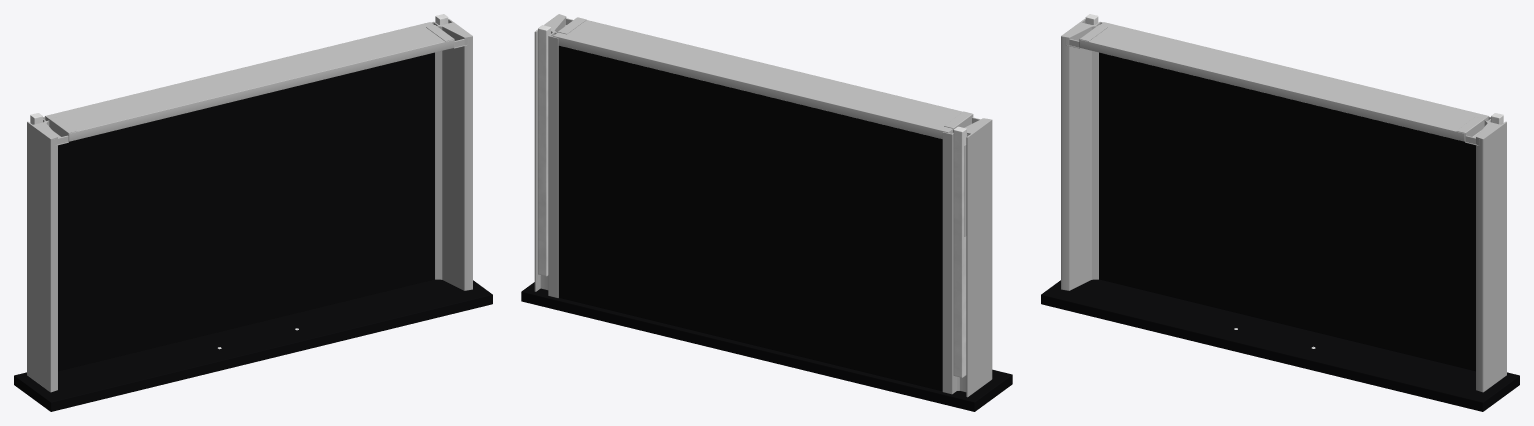
The model's file is SM_Kitchen_11_Base_Drawer_01.obj.
The picture shows the model from 3 angles, left to right: view 1: azimuth 30°, elevation 25°; view 2: azimuth 150°, elevation 25°; view 3: azimuth 330°, elevation 25°; orthographic projection. The views are drawn at different scales.
Visible parts, largest first — view 1: SM_Kitchen_11_Base_Drawer_01; view 2: SM_Kitchen_11_Base_Drawer_01; view 3: SM_Kitchen_11_Base_Drawer_01.
Part boxes in pixels (bbox=[...]): SM_Kitchen_11_Base_Drawer_01: bbox=[14, 14, 492, 411]; SM_Kitchen_11_Base_Drawer_01: bbox=[521, 14, 1012, 411]; SM_Kitchen_11_Base_Drawer_01: bbox=[1041, 14, 1519, 411].
Bounding box in the file's own units: 0.8969 × 0.5199 × 0.13.
4 materials, 1 textured.
